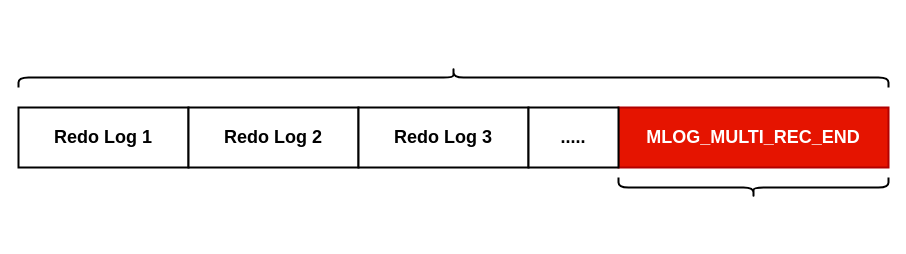
Image size: 906x254. Some labels were removed from this diagram. The centre of each missing label's shape, as x and y in pixels:
"Mini-Transaction" belongs at point (453, 77).
"Type Field" belongs at point (753, 187).
